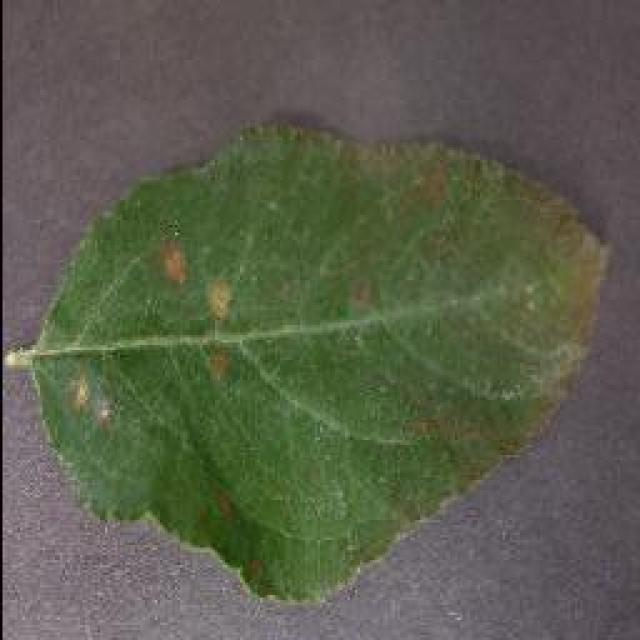apple rust disease: (5, 117, 613, 605)
